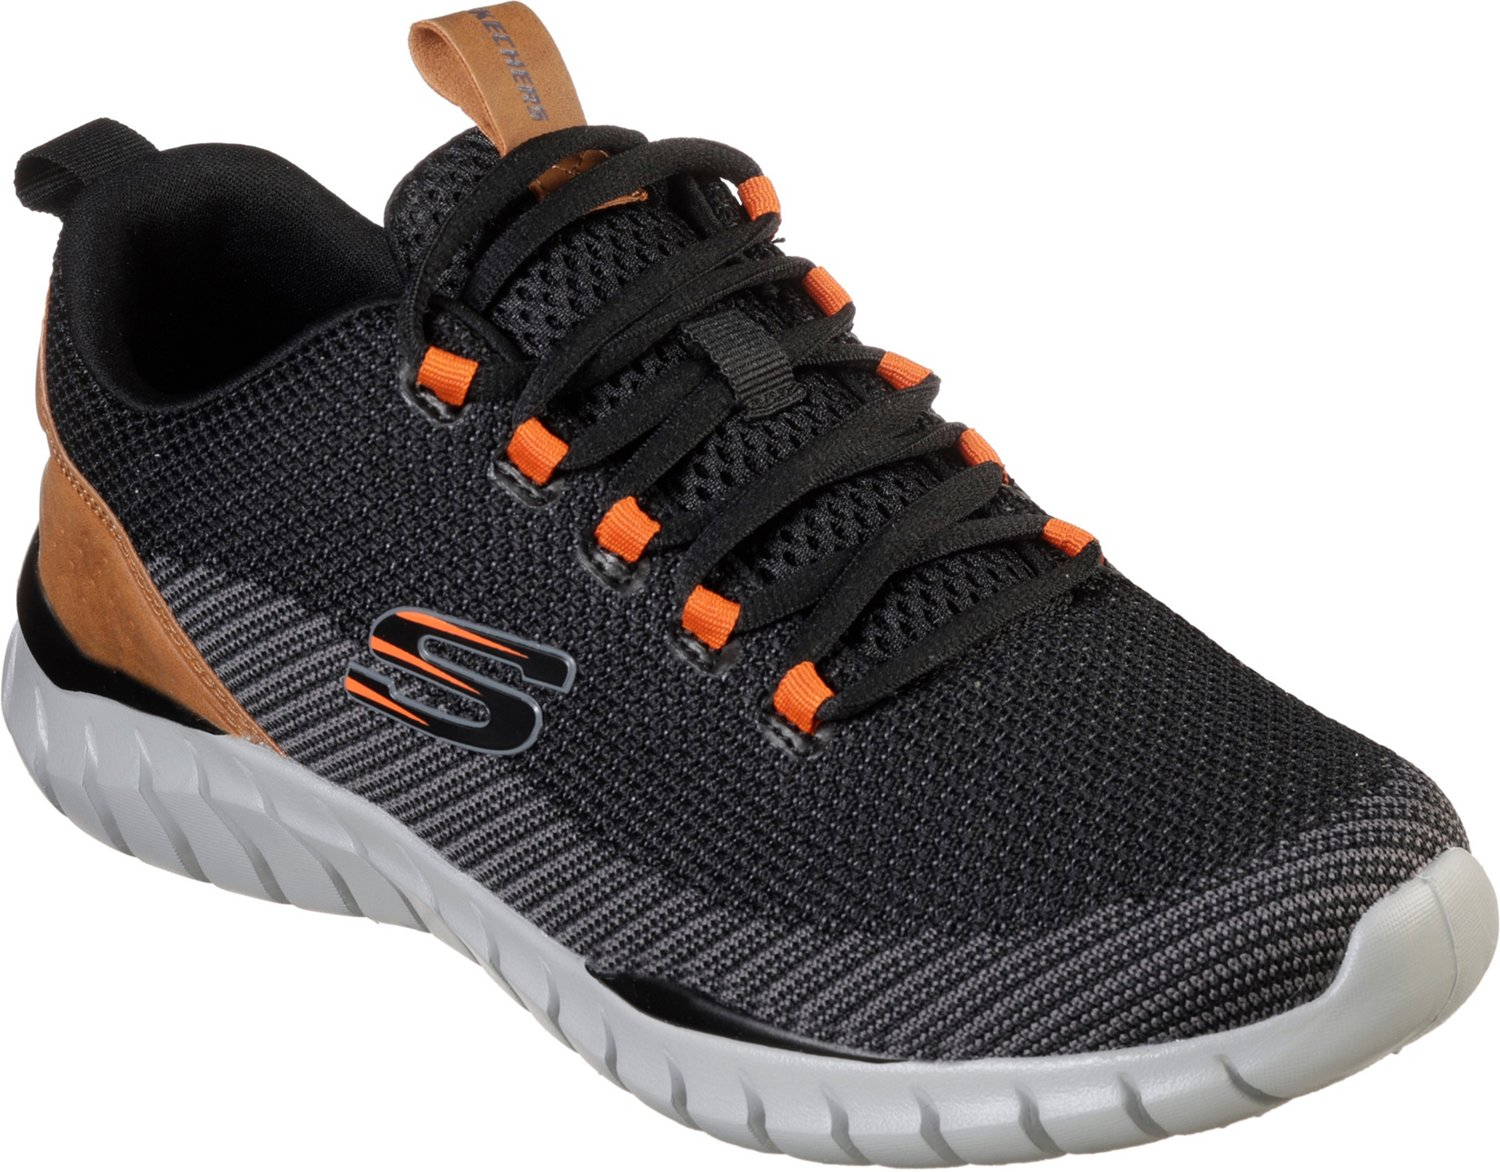shoe: (1, 6, 1500, 1145)
